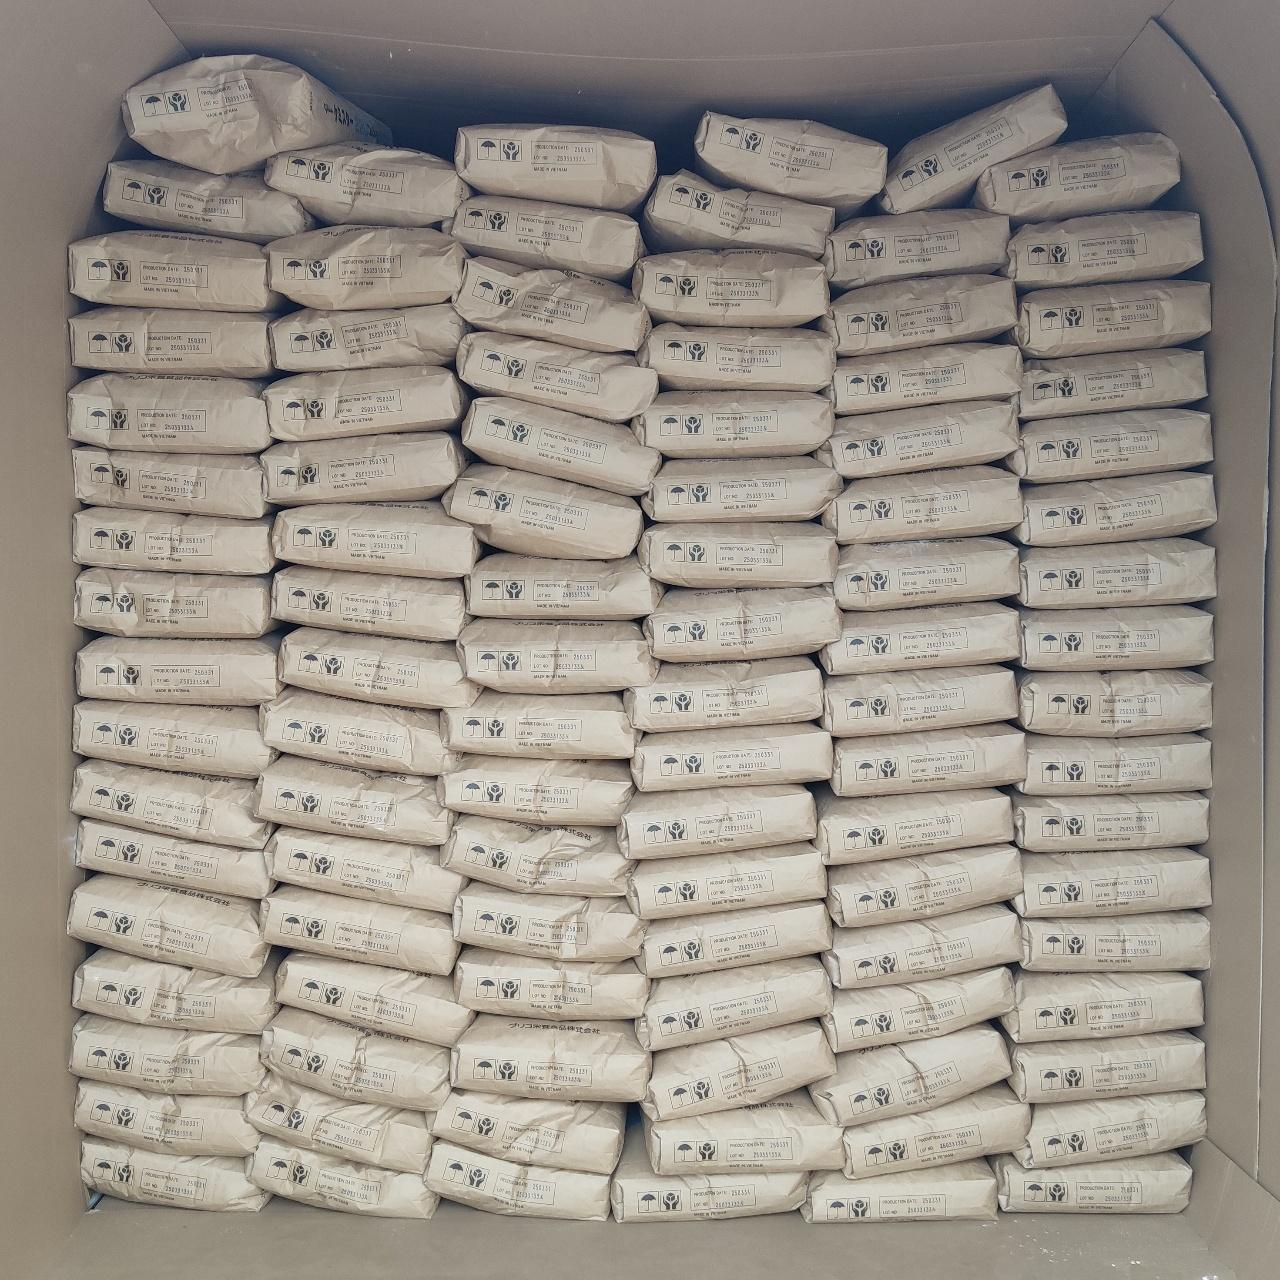sack: (124, 56, 384, 172), (880, 88, 1064, 212), (68, 874, 268, 974), (610, 1122, 808, 1221), (812, 1026, 1006, 1126), (694, 113, 886, 210), (263, 1008, 445, 1110), (464, 399, 660, 493), (444, 464, 642, 558), (454, 256, 648, 350), (246, 1073, 430, 1172), (644, 1022, 832, 1118), (974, 134, 1180, 220), (278, 952, 470, 1044), (638, 958, 830, 1048), (458, 332, 654, 420), (256, 756, 450, 844), (72, 760, 268, 846), (104, 158, 312, 240), (263, 886, 456, 974), (70, 230, 282, 309), (260, 688, 456, 774), (456, 125, 654, 210), (844, 1084, 1028, 1175), (74, 949, 275, 1030), (452, 1016, 648, 1099), (266, 226, 464, 308), (444, 196, 642, 278), (428, 1090, 622, 1172), (268, 828, 462, 910), (280, 628, 478, 708), (646, 1090, 838, 1172), (70, 374, 270, 452), (824, 968, 1014, 1050), (646, 172, 836, 254), (266, 144, 467, 222), (828, 846, 1020, 926), (824, 906, 1020, 983), (248, 1136, 438, 1216), (818, 274, 1014, 350), (74, 700, 275, 774), (74, 821, 272, 896), (274, 502, 478, 574), (72, 1016, 263, 1094), (264, 366, 467, 438), (442, 816, 629, 894), (824, 467, 1020, 542), (454, 881, 646, 958), (816, 402, 1014, 476), (1006, 212, 1201, 286), (634, 250, 828, 324), (626, 658, 822, 730), (1014, 282, 1206, 356), (629, 844, 822, 918), (1010, 410, 1210, 481), (458, 620, 654, 692), (618, 787, 813, 858), (816, 790, 1012, 862), (425, 1141, 606, 1218), (644, 588, 838, 660), (824, 210, 1006, 286), (264, 434, 467, 502), (1017, 1092, 1204, 1166), (274, 566, 467, 638), (638, 903, 830, 974), (76, 1080, 256, 1156), (1014, 474, 1214, 542), (1010, 1032, 1204, 1102), (74, 568, 272, 636), (1017, 538, 1214, 606), (454, 948, 646, 1017), (79, 636, 280, 702), (270, 304, 464, 372), (1005, 972, 1201, 1039), (821, 604, 1017, 670), (826, 343, 1020, 411), (832, 724, 1022, 794), (82, 1136, 268, 1206), (442, 692, 638, 758), (822, 666, 1014, 734), (74, 448, 266, 516), (632, 724, 830, 790), (72, 308, 270, 374), (1012, 850, 1208, 915), (1016, 350, 1204, 418), (638, 324, 835, 388), (640, 522, 836, 586), (74, 508, 270, 572), (440, 756, 629, 822), (632, 392, 832, 454), (835, 538, 1017, 606), (467, 554, 662, 618), (1017, 670, 1210, 734), (1020, 606, 1212, 668), (642, 458, 840, 518), (804, 1158, 994, 1220), (994, 1152, 1190, 1212), (1017, 734, 1210, 792), (1017, 912, 1206, 971), (1012, 794, 1206, 850)
